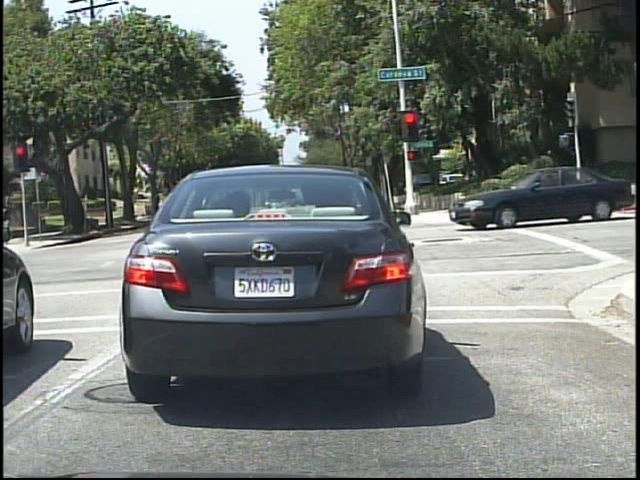person: (3, 194, 16, 246)
